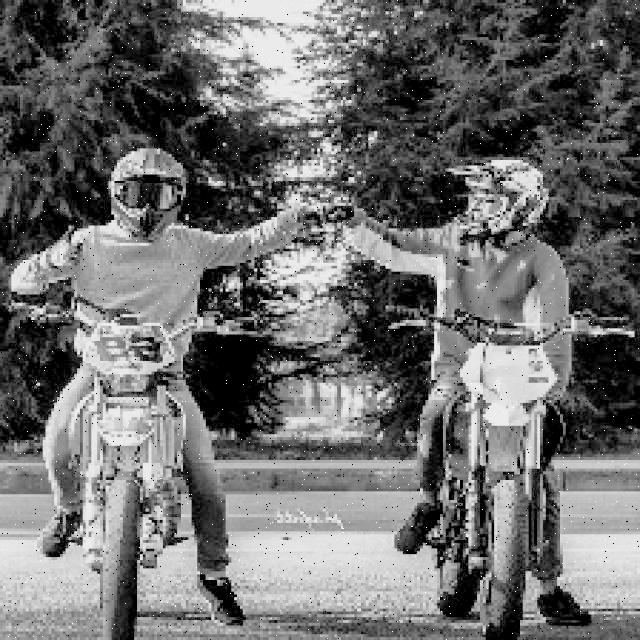Bike: (443, 304, 561, 632), (73, 311, 191, 637)
